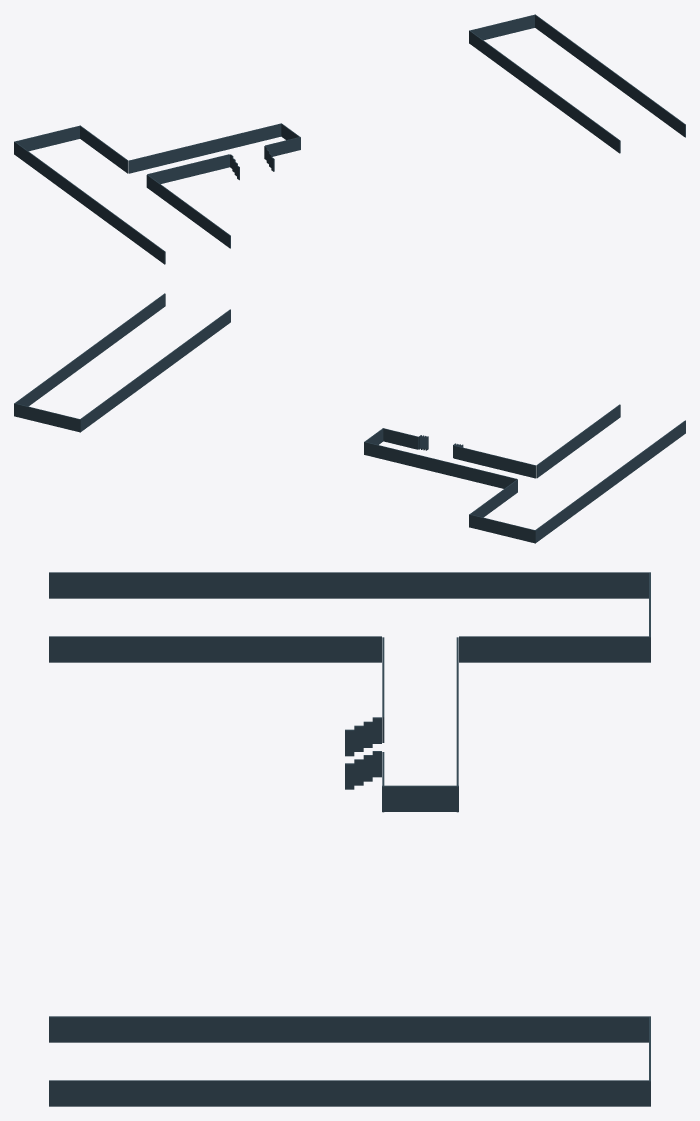
The model's file is v02-03-03-steel.glb.
The picture shows the model from 3 angles, top to bottom: view 1: azimuth 30°, elevation 25°; view 2: azimuth 150°, elevation 25°; view 3: azimuth 270°, elevation 25°; orthographic projection. The views are drawn at different scales.
Parts seen in each view (by area): view 1: v02-03-03-steel; view 2: v02-03-03-steel; view 3: v02-03-03-steel.
Boxes of the visible parts, x1=… form: v02-03-03-steel: x1=14, y1=14, x2=685, y2=264; v02-03-03-steel: x1=14, y1=293, x2=685, y2=543; v02-03-03-steel: x1=49, y1=572, x2=650, y2=1106.
Bounding box in the file's own units: 47 × 1.63 × 23.5.
